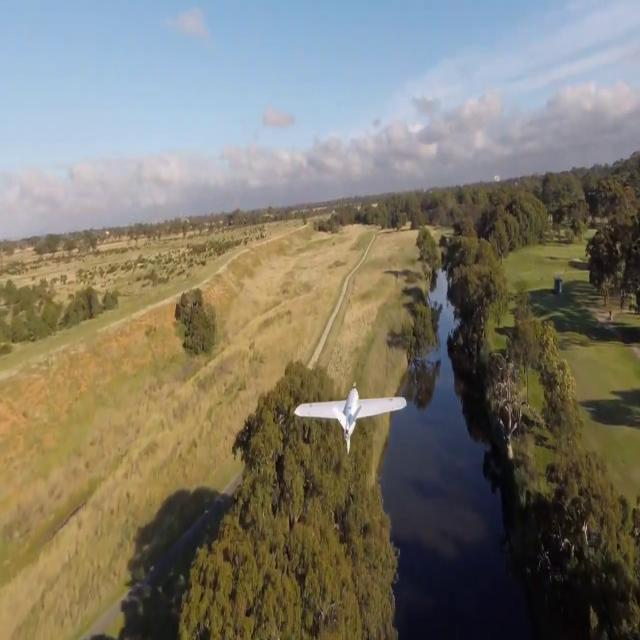iha: (326, 388, 374, 439)
